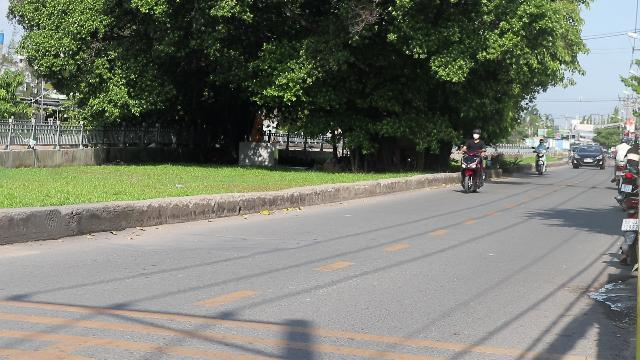licenseplate: (622, 218, 638, 231)
